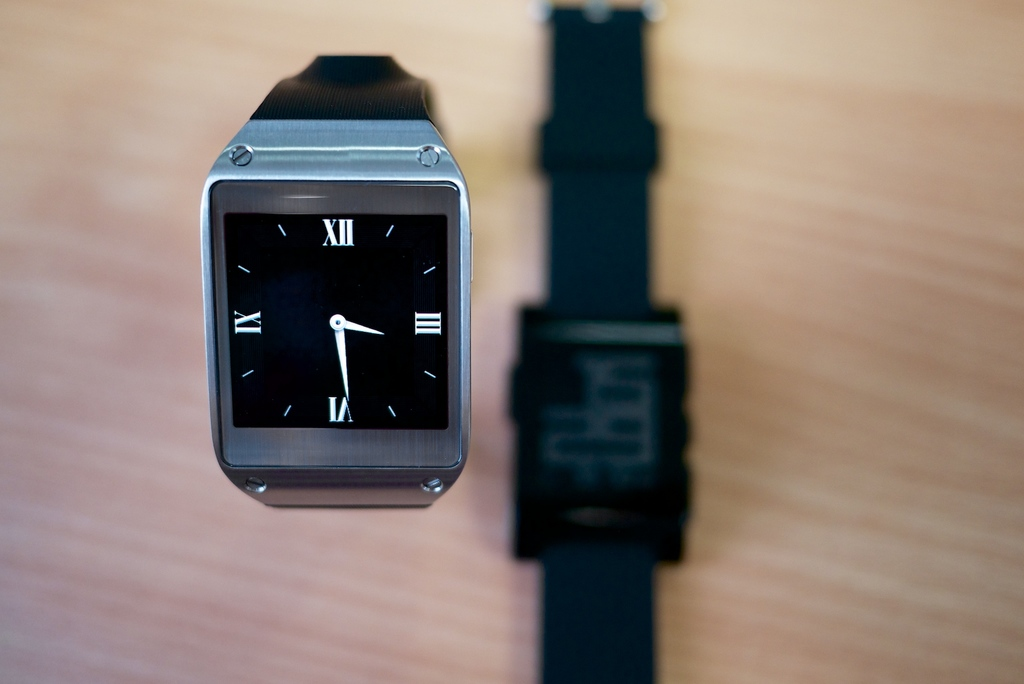watch: (193, 55, 474, 519)
